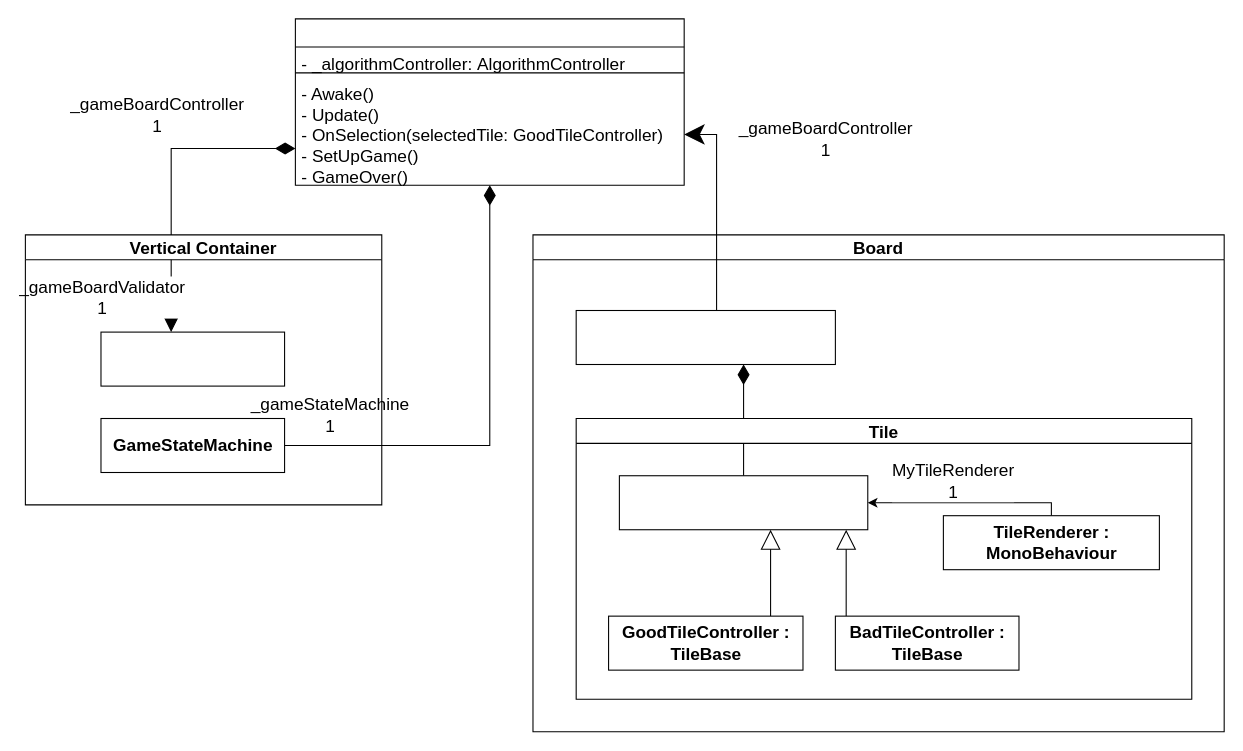
Image size: 1243x751. Some labels were removed from this diagram. The shapes that lost their labels are listed below. From the top down, each one's box as (x1, y1, x2, y2) in pixels, then its label:
(294, 18, 684, 185): GameController : LevelLoader
(575, 309, 835, 364): GameBoardController : MonoBehaviour
(100, 331, 285, 386): GameBoardValidator
(618, 475, 868, 530): TileBase : MonoBehaviour <abstract>
